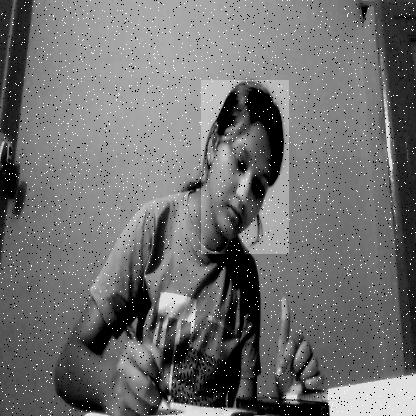Distracted: (201, 80, 289, 254)
